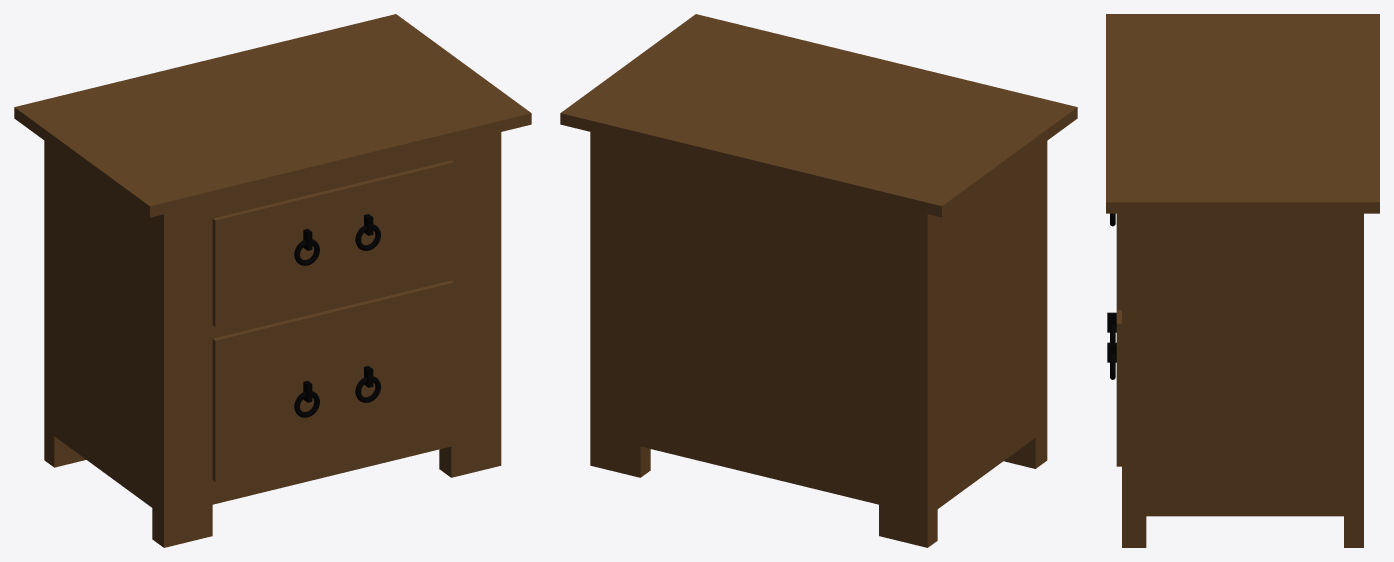
File: armário3.fbx
3 renders of one model, left to right at view 1: azimuth 30°, elevation 25°; view 2: azimuth 150°, elevation 25°; view 3: azimuth 270°, elevation 25°, orthographic.
Parts seen in each view (by area): view 1: Cube; view 2: Cube; view 3: Cube.
Boxes of the visible parts, x1,y1,x2,y2 form: Cube: (14,14,531,547); Cube: (560,14,1077,547); Cube: (1106,14,1379,547).
Size of the model in its own units: 121 by 107 by 74.13.
